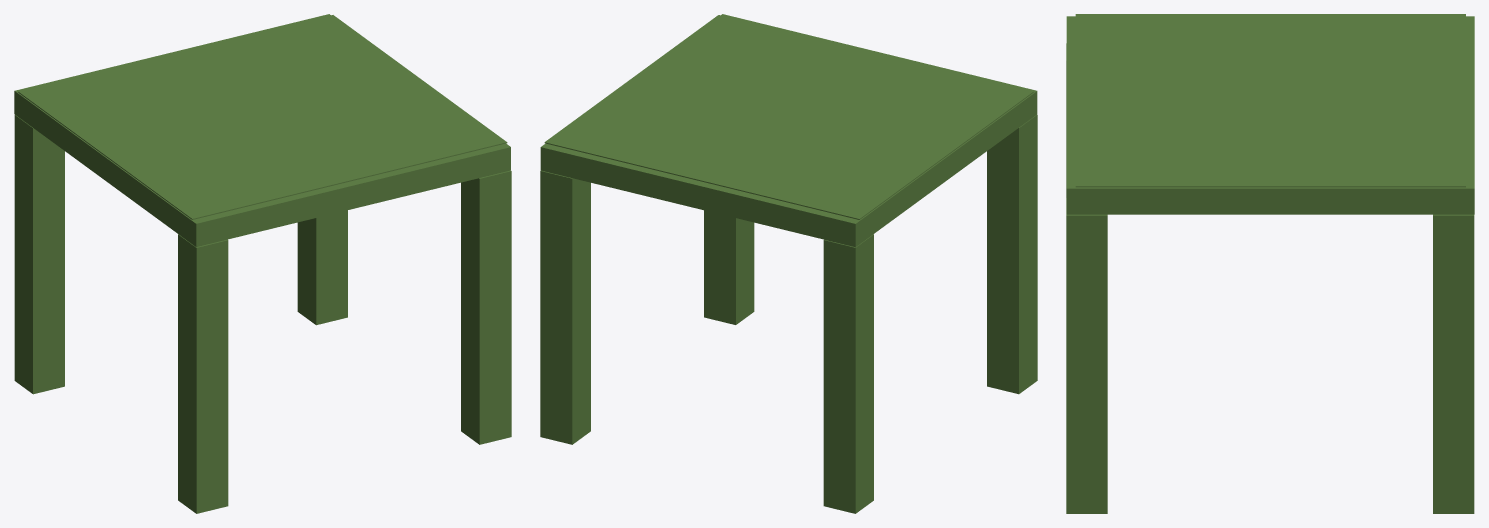
Rendered from table_5.glb.
3 renders of one model, left to right at view 1: azimuth 30°, elevation 25°; view 2: azimuth 150°, elevation 25°; view 3: azimuth 270°, elevation 25°, orthographic. The views are drawn at different scales.
Visible parts, largest first — view 1: 立方体.003; view 2: 立方体.003; view 3: 立方体.003.
Part boxes in pixels (x1,y1,x2,y2): 立方体.003: (14, 14, 511, 513); 立方体.003: (540, 14, 1037, 513); 立方体.003: (1066, 14, 1474, 513).
Bounding box in the file's own units: 0.6273 × 0.5555 × 0.6273.
